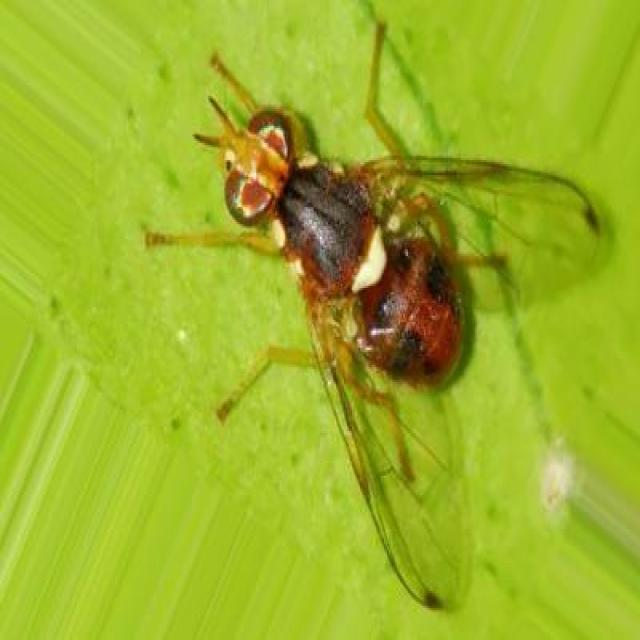Anthracnose: (146, 17, 598, 606)
